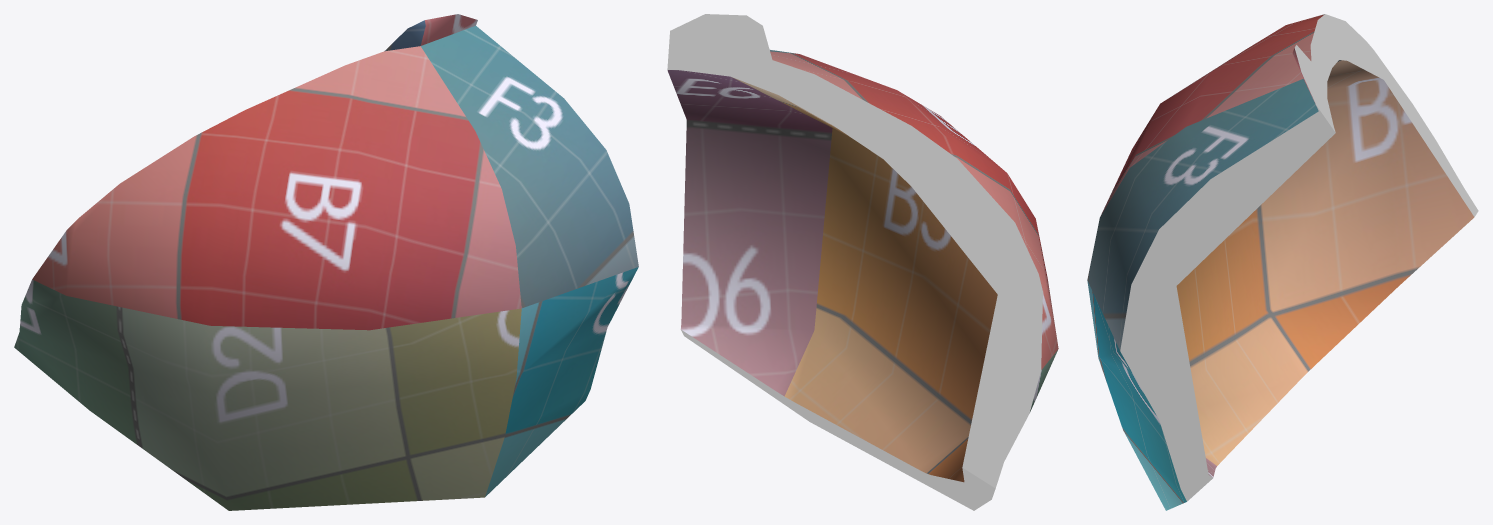
File: SmallVase_SHAT_cell_001.fbx
3 renders of one model, left to right at view 1: azimuth 30°, elevation 25°; view 2: azimuth 150°, elevation 25°; view 3: azimuth 270°, elevation 25°, orthographic. The views are drawn at different scales.
Visible parts, largest first — view 1: SmallVase_SHAT_cell_001; view 2: SmallVase_SHAT_cell_001; view 3: SmallVase_SHAT_cell_001.
Part boxes in pixels (left/top/right/bottom): SmallVase_SHAT_cell_001: left=14, top=14, right=638, bottom=510; SmallVase_SHAT_cell_001: left=667, top=14, right=1058, bottom=510; SmallVase_SHAT_cell_001: left=1087, top=14, right=1478, bottom=510.
Bounding box in the file's own units: 0.7141 × 0.6293 × 0.4817.
Materials: 2 (1 with a texture image).
